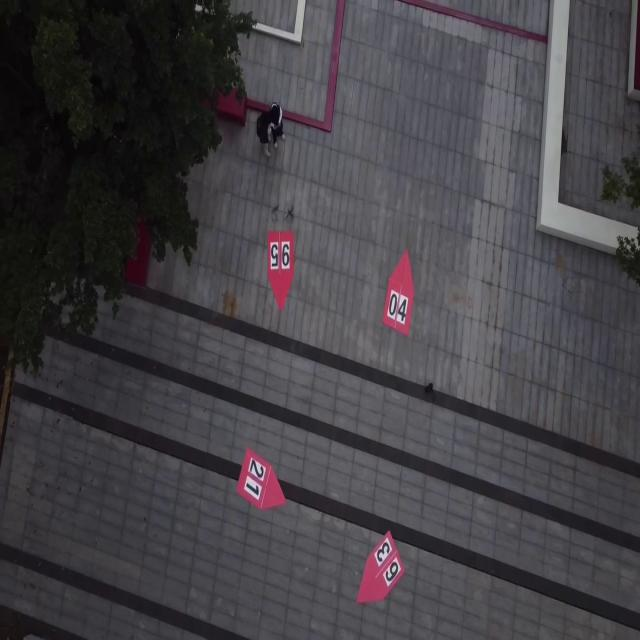-sign-: (356, 530, 406, 604), (236, 447, 286, 511), (382, 247, 415, 336), (266, 227, 294, 312)
